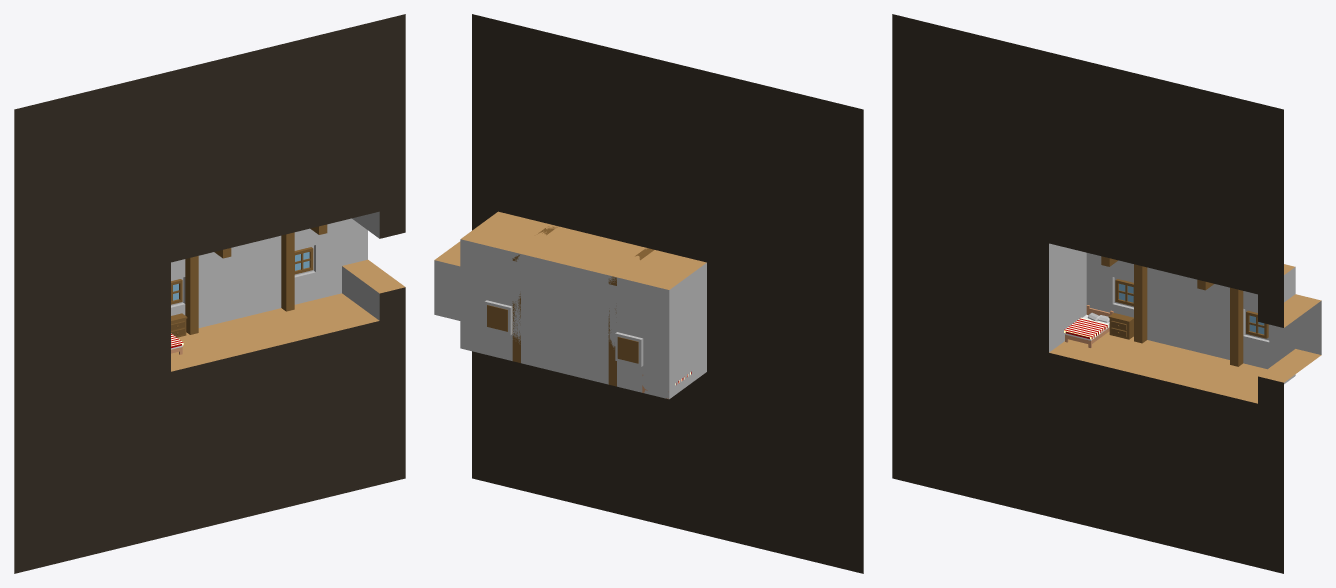
File: Room-001.fbx
The picture shows the model from 3 angles, left to right: view 1: azimuth 30°, elevation 25°; view 2: azimuth 150°, elevation 25°; view 3: azimuth 330°, elevation 25°; orthographic projection.
Visible parts, largest first — view 1: Room.003; view 2: Room.003; view 3: Room.003.
Boxes of the visible parts, x1,y1,x2,y2 form: Room.003: (14,14,405,573); Room.003: (434,14,863,573); Room.003: (892,14,1321,573).
Bounding box in the file's own units: 3000 × 3400 × 529.
